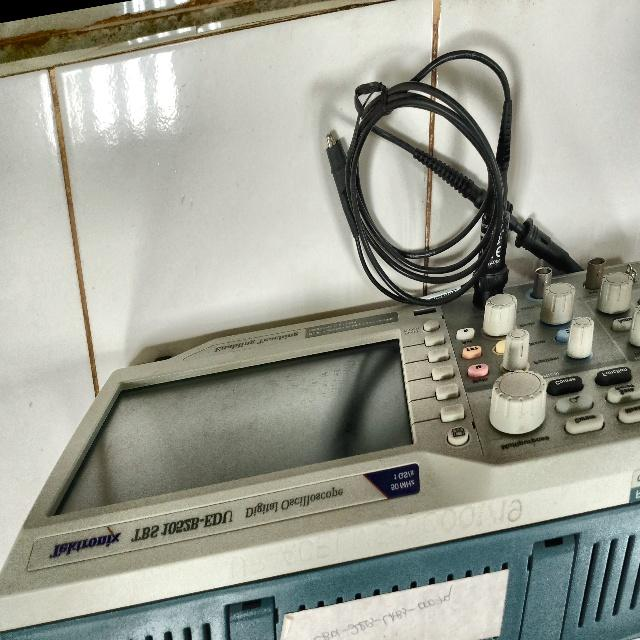Digital Oscilloscope: (0, 172, 640, 640)
